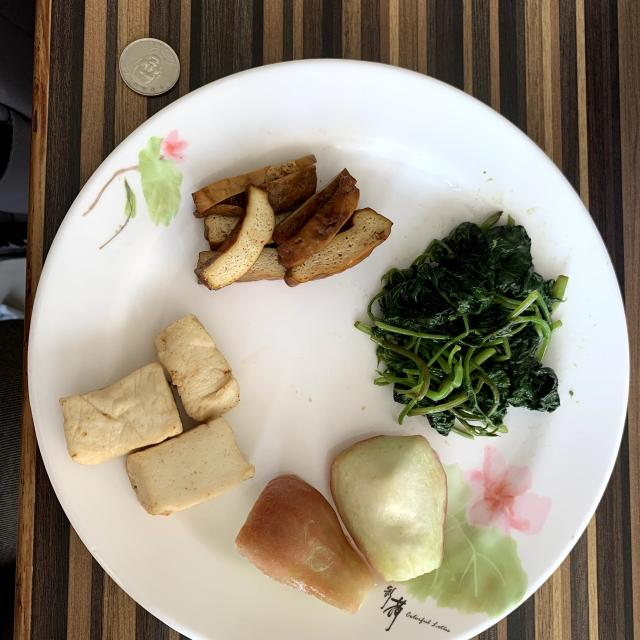coin: (119, 39, 180, 95)
creamy tofu -without sauce-: (60, 315, 255, 515)
firm tofu: (192, 155, 391, 290)
sweet potato leaves: (355, 212, 568, 438)
